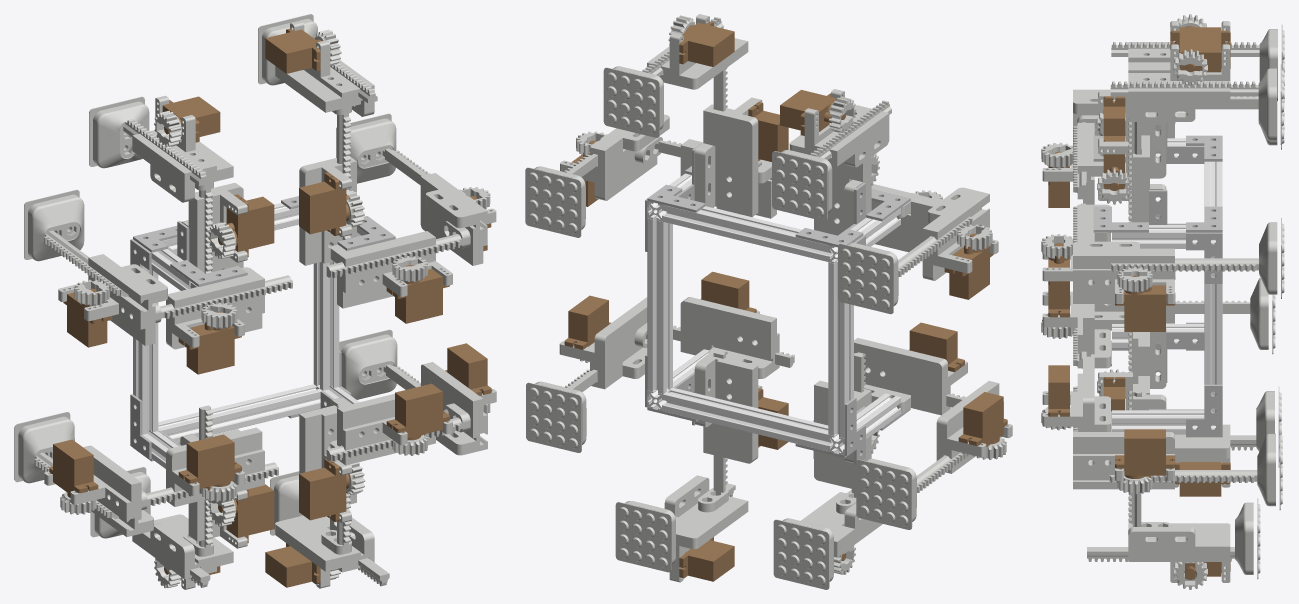
Rendered from Assembler_8Leg v6.fbx.
3 renders of one model, left to right at view 1: azimuth 30°, elevation 25°; view 2: azimuth 150°, elevation 25°; view 3: azimuth 270°, elevation 25°, orthographic. The views are drawn at different scales.
Parts seen in each view (by area): view 1: Body1 (×39), Body5 (×8), Body6 (×7), Body23, Body28, Body4 (×2), Body17, Body25, Body21, Body11, Body29, Body16 (+1 smaller); view 2: Body1 (×31), Body5 (×8), Body6 (×4), Body23, Body29, Body28, Body2, Body25, Body11, Body20, Body27, Body17 (+2 smaller); view 3: Body1 (×37), Body5 (×9), Body6 (×8), Body4 (×4), Body27, Body26, Body9, Body19, Body21, Body29, Body7, Body2 (+2 smaller).
Part boxes in pixels (left/top/right/bottom): Body1 (×39): left=18, top=19, right=496, bottom=588; Body5 (×8): left=58, top=21, right=496, bottom=589; Body6 (×7): left=44, top=106, right=470, bottom=556; Body23: left=158, top=384, right=322, bottom=442; Body28: left=133, top=265, right=158, bottom=434; Body4 (×2): left=74, top=279, right=237, bottom=328; Body17: left=170, top=260, right=247, bottom=286; Body25: left=151, top=249, right=190, bottom=290; Body21: left=337, top=216, right=395, bottom=250; Body11: left=130, top=394, right=151, bottom=459; Body29: left=161, top=203, right=298, bottom=252; Body16: left=133, top=225, right=177, bottom=252; Body1 (×31): left=525, top=21, right=1012, bottom=589; Body5 (×8): left=559, top=14, right=998, bottom=557; Body6 (×4): left=634, top=216, right=972, bottom=514; Body23: left=663, top=387, right=832, bottom=451; Body29: left=663, top=205, right=832, bottom=261; Body28: left=828, top=261, right=853, bottom=438; Body2: left=828, top=393, right=900, bottom=455; Body25: left=828, top=208, right=900, bottom=263; Body11: left=844, top=397, right=865, bottom=455; Body20: left=647, top=184, right=705, bottom=212; Body27: left=647, top=349, right=714, bottom=411; Body17: left=866, top=189, right=910, bottom=221; Body1 (×37): left=1041, top=21, right=1277, bottom=589; Body5 (×9): left=1042, top=44, right=1230, bottom=489; Body6 (×8): left=1073, top=81, right=1258, bottom=482; Body4 (×4): left=1041, top=49, right=1207, bottom=494; Body27: left=1112, top=410, right=1215, bottom=434; Body26: left=1112, top=225, right=1215, bottom=248; Body9: left=1186, top=384, right=1222, bottom=435; Body19: left=1186, top=232, right=1222, bottom=283; Body21: left=1093, top=206, right=1148, bottom=232; Body29: left=1204, top=161, right=1222, bottom=206; Body7: left=1155, top=122, right=1204, bottom=163; Body2: left=1112, top=324, right=1204, bottom=348.
Bounding box in the file's own units: 261 × 321 × 132.
